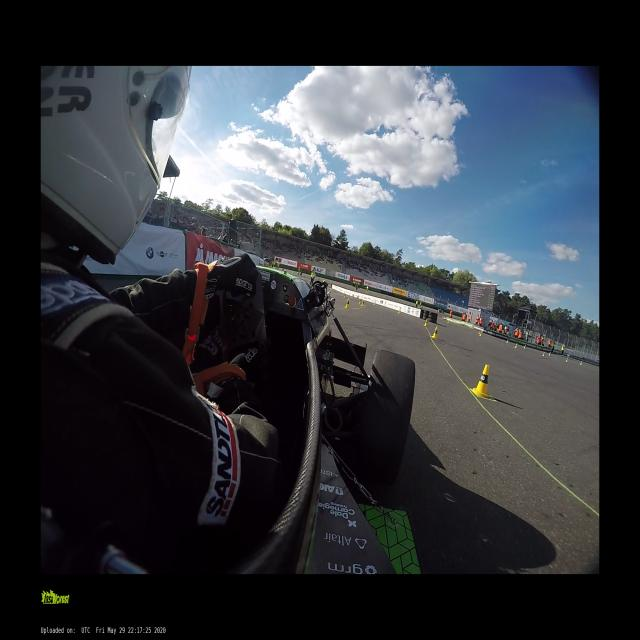yellow_cone: (470, 364, 490, 399), (431, 326, 438, 339), (345, 298, 350, 309), (424, 318, 428, 326), (398, 308, 401, 314), (359, 298, 362, 304), (542, 352, 545, 357), (523, 344, 526, 349), (514, 344, 517, 348), (565, 358, 568, 362), (548, 352, 551, 356), (343, 294, 346, 298), (362, 301, 364, 306), (580, 361, 582, 366), (373, 300, 375, 305), (506, 339, 508, 343), (480, 332, 481, 337)
